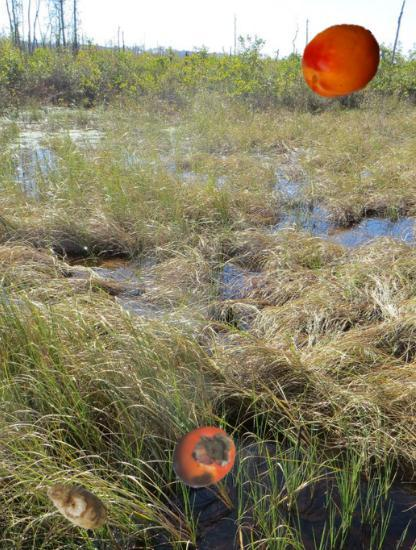Apricot: (299, 19, 384, 104)
Ginger: (44, 472, 111, 539)
Kaki: (169, 421, 239, 491)
